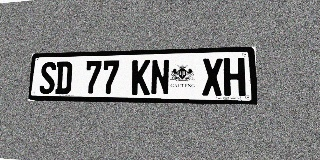7: (101, 60, 120, 95), (84, 61, 102, 95)
D: (55, 61, 73, 94)
H: (223, 57, 246, 96)
K: (131, 60, 150, 95)
N: (150, 59, 170, 95)
S: (39, 62, 56, 94)
X: (202, 58, 223, 96)
